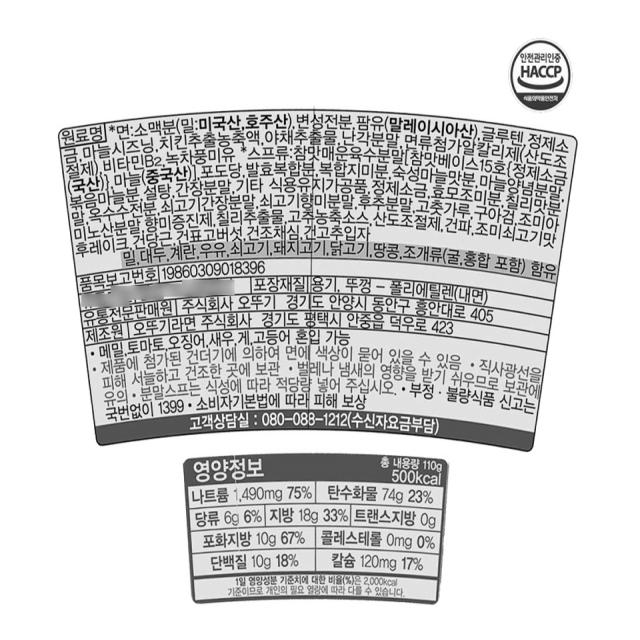Nutrition Label: (180, 452, 454, 616)
